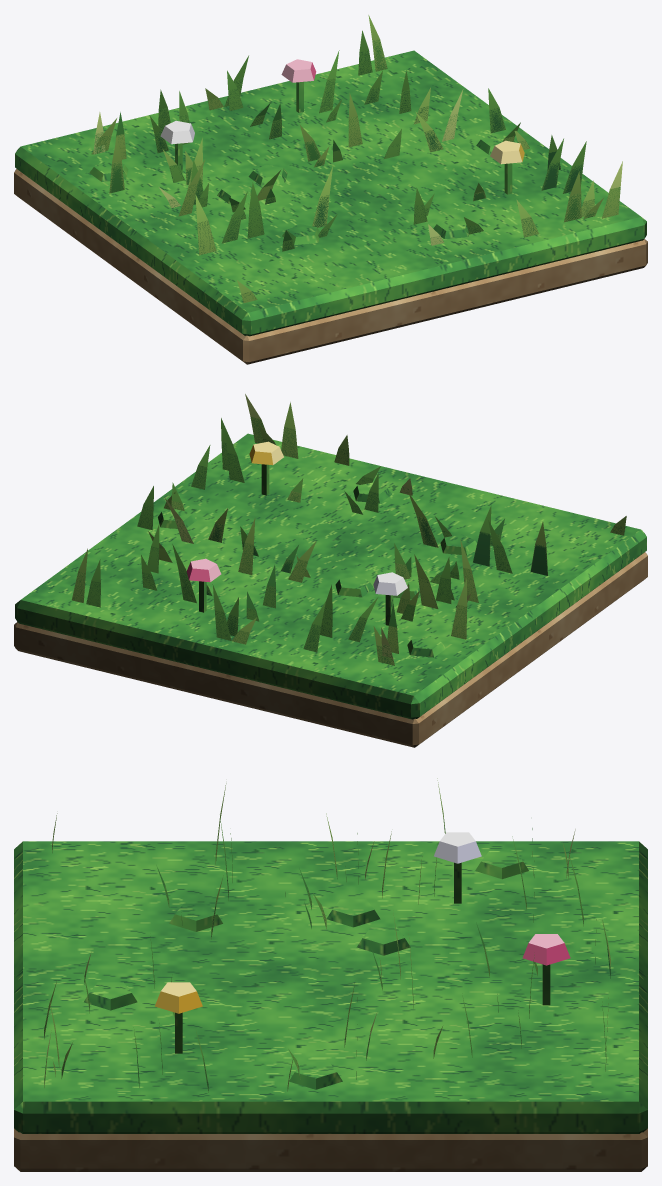
File: floor_grass.glb
3 views of the same model, one above another, from view 1: azimuth 30°, elevation 25°; view 2: azimuth 150°, elevation 25°; view 3: azimuth 270°, elevation 25° (orthographic). The views are drawn at different scales.
Parts seen in each view (by area): view 1: floor_grass; view 2: floor_grass; view 3: floor_grass.
Boxes of the visible parts, x1,y1,x2,y2 form: floor_grass: (14, 15, 647, 364); floor_grass: (14, 394, 647, 747); floor_grass: (14, 778, 647, 1171).
Bounding box in the file's own units: 1 × 0.2587 × 1.
9 materials, 9 textured.
